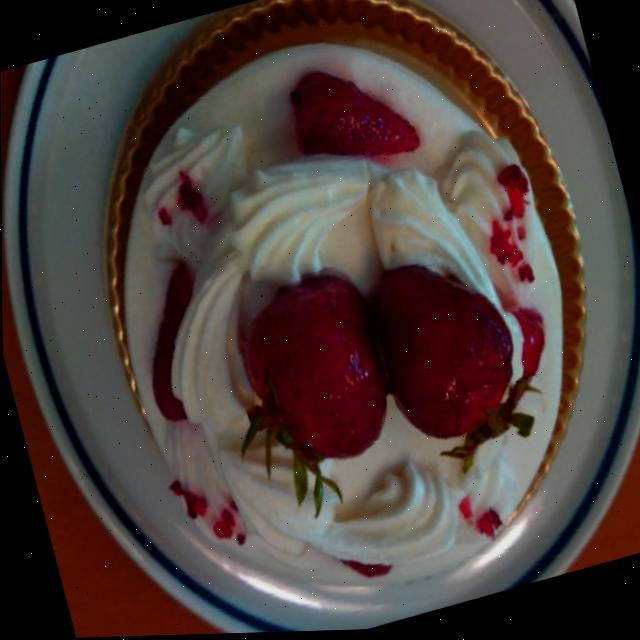蛋糕甜品: (15, 0, 640, 640)
